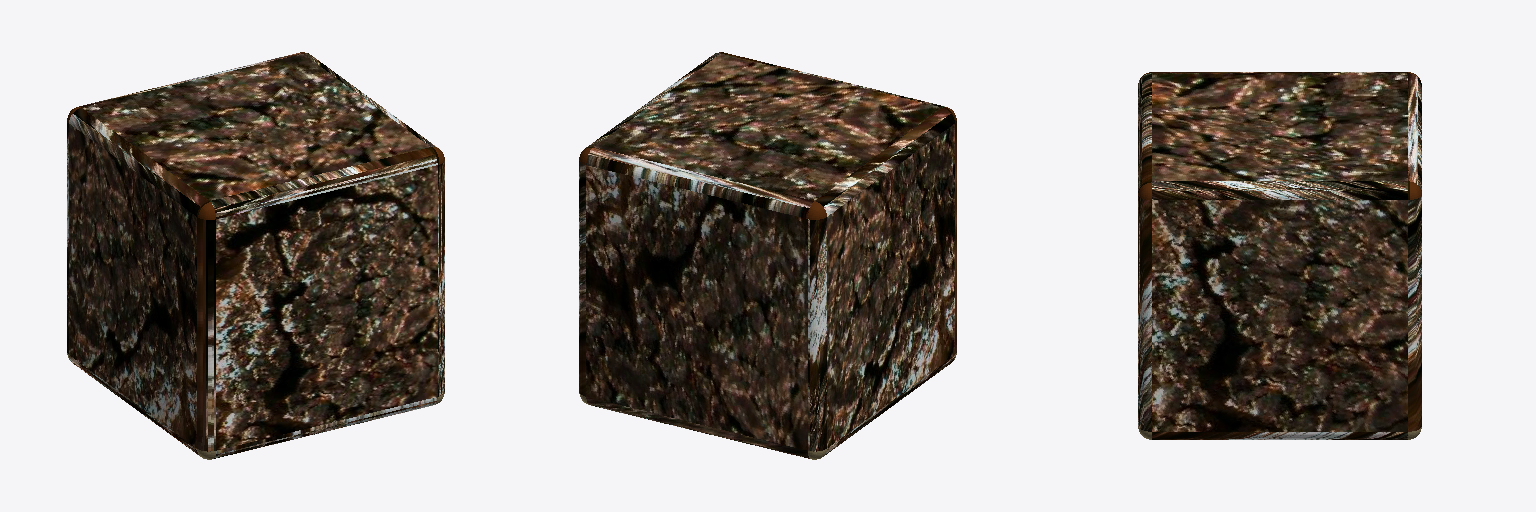
3 renders of one model, left to right at view 1: azimuth 30°, elevation 25°; view 2: azimuth 150°, elevation 25°; view 3: azimuth 270°, elevation 25°, orthographic.
Parts seen in each view (by area): view 1: Cube; view 2: Cube; view 3: Cube.
Part boxes in pixels (bbox=[...]): Cube: bbox=[67, 52, 444, 459]; Cube: bbox=[579, 52, 956, 459]; Cube: bbox=[1138, 72, 1421, 439].
Size of the model in its own units: 2 by 2 by 2.
1 materials, 1 textured.